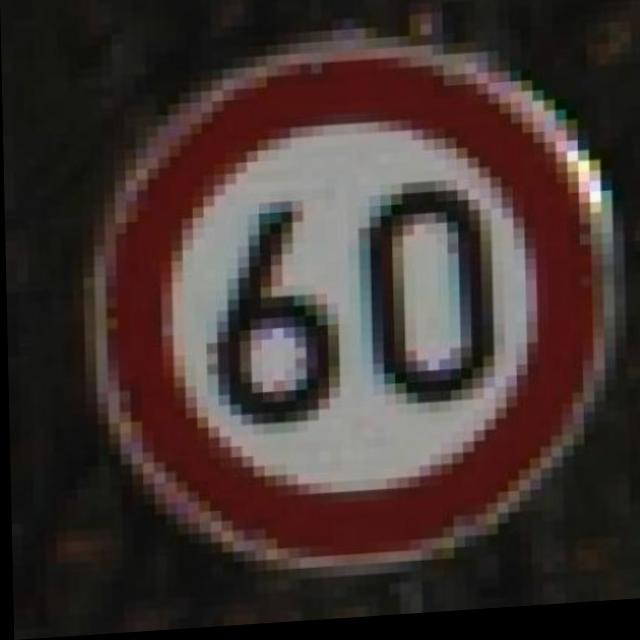limit60: (60, 15, 640, 603)
